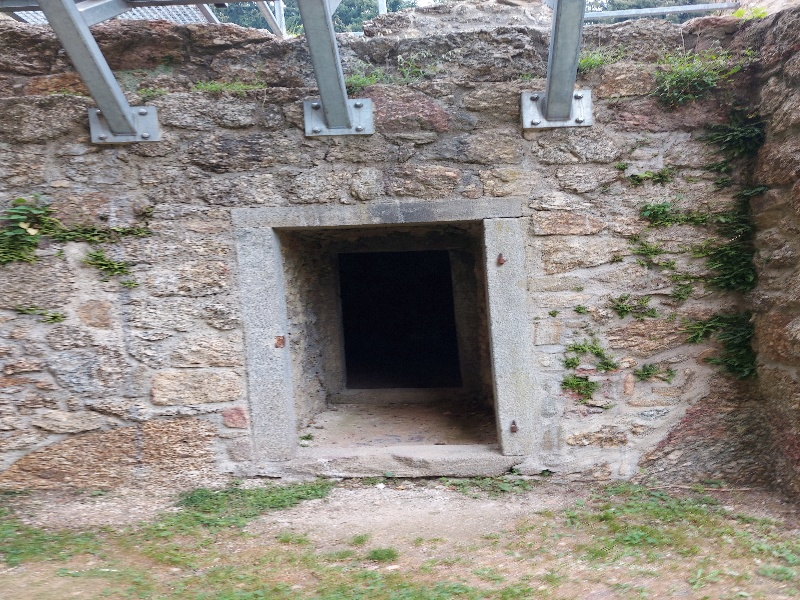door1: (216, 180, 551, 489)
